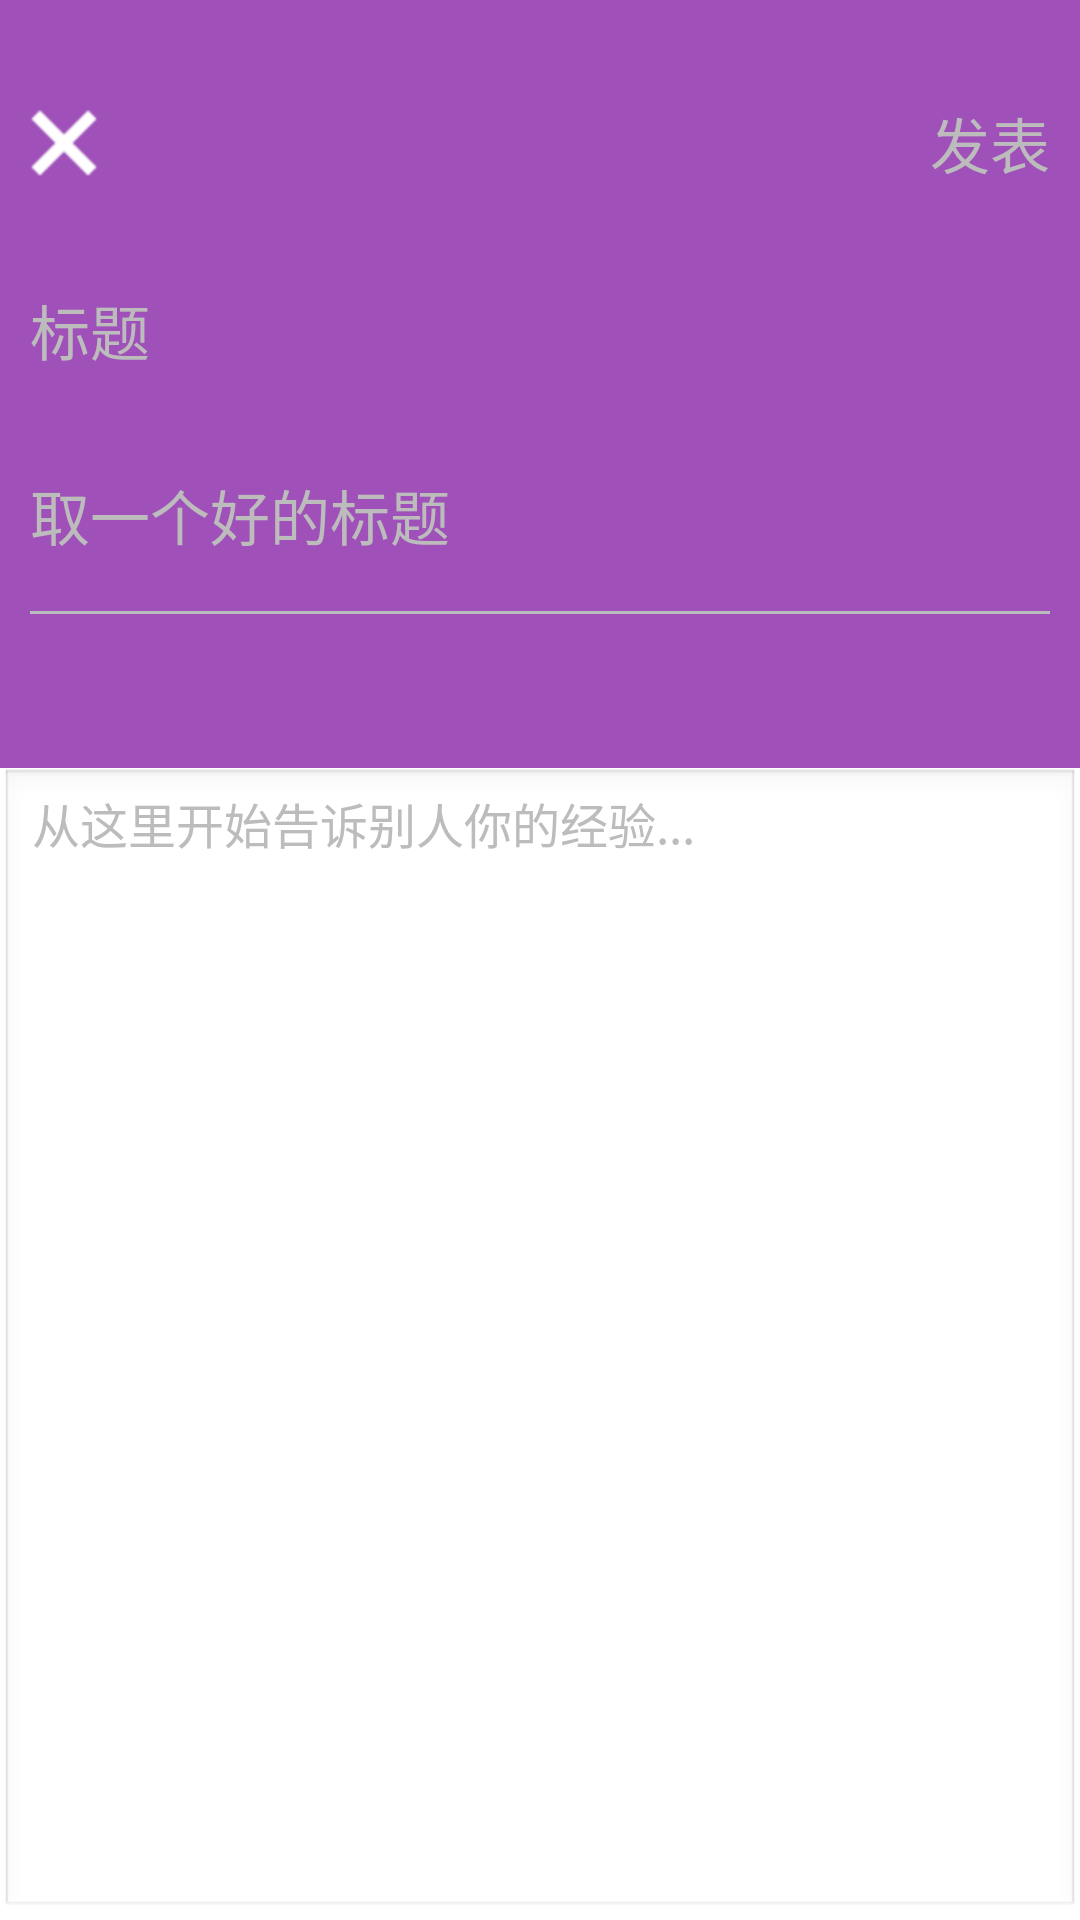

Where to tap for icons on this 1080*1920 app screen, as (x=x, y=y):
back: (x=64, y=143)
